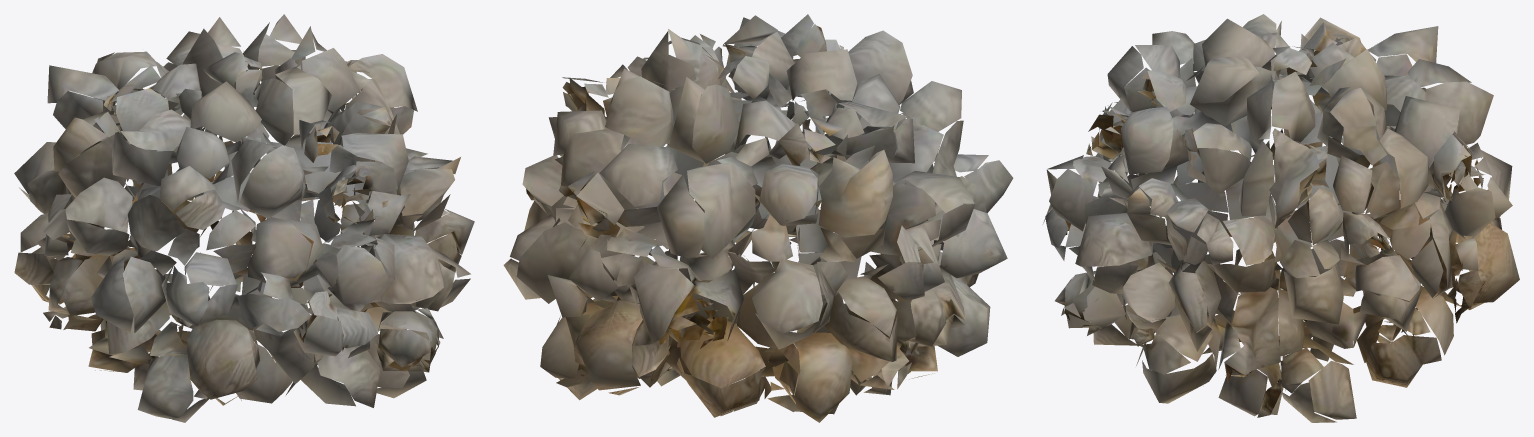
Rendered from barnacle_cluster_a.glb.
The picture shows the model from 3 angles, left to right: view 1: azimuth 30°, elevation 25°; view 2: azimuth 150°, elevation 25°; view 3: azimuth 270°, elevation 25°; orthographic projection. The views are drawn at different scales.
Parts seen in each view (by area): view 1: tripo_node_0d1aa1d5-6c8f-4737-92c7-3d5daf9b1ae0; view 2: tripo_node_0d1aa1d5-6c8f-4737-92c7-3d5daf9b1ae0; view 3: tripo_node_0d1aa1d5-6c8f-4737-92c7-3d5daf9b1ae0.
Part boxes in pixels (x1,y1,x2,y2): tripo_node_0d1aa1d5-6c8f-4737-92c7-3d5daf9b1ae0: (14,14,474,422); tripo_node_0d1aa1d5-6c8f-4737-92c7-3d5daf9b1ae0: (503,14,1013,422); tripo_node_0d1aa1d5-6c8f-4737-92c7-3d5daf9b1ae0: (1042,14,1519,422).
Bounding box in the file's own units: 0.9036 × 0.7805 × 1.
1 material, 1 textured.
